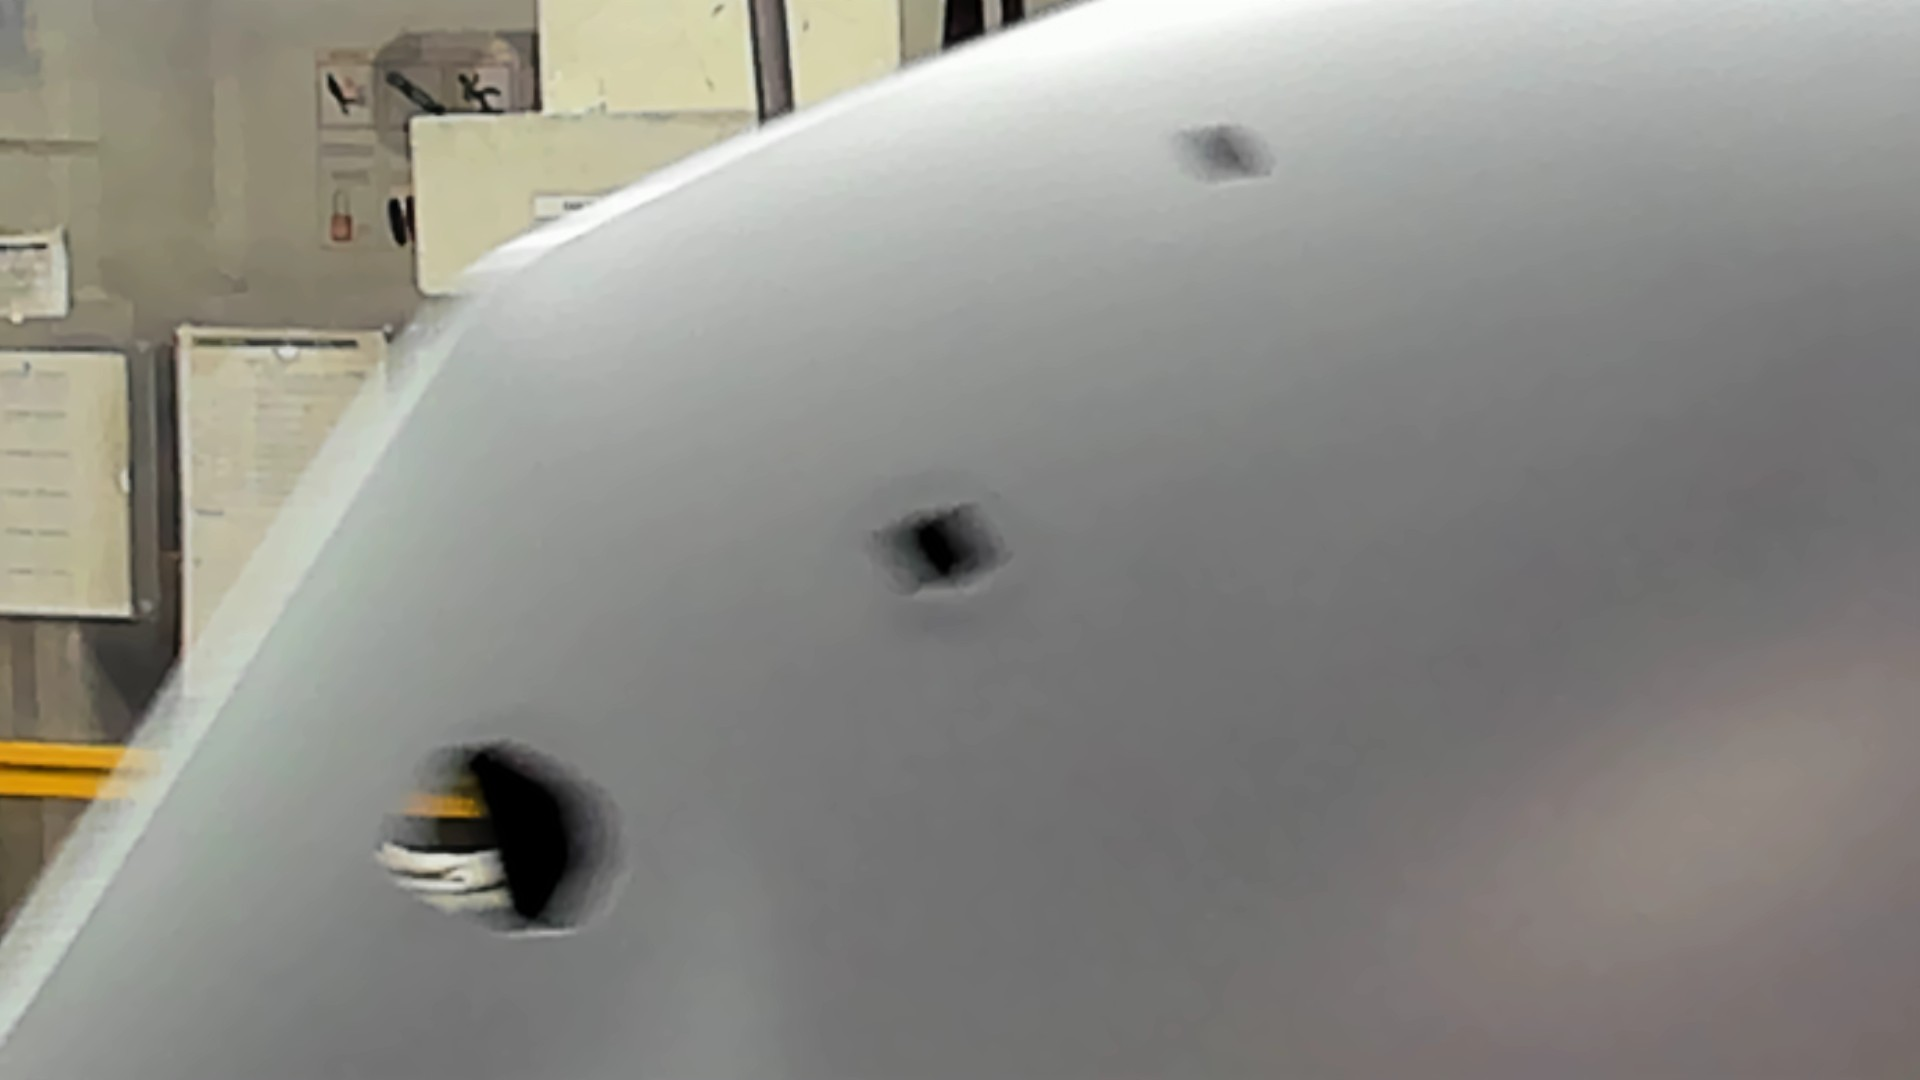chico: (1174, 113, 1278, 186)
grande: (371, 735, 626, 945)
mediano: (861, 500, 1033, 601)
